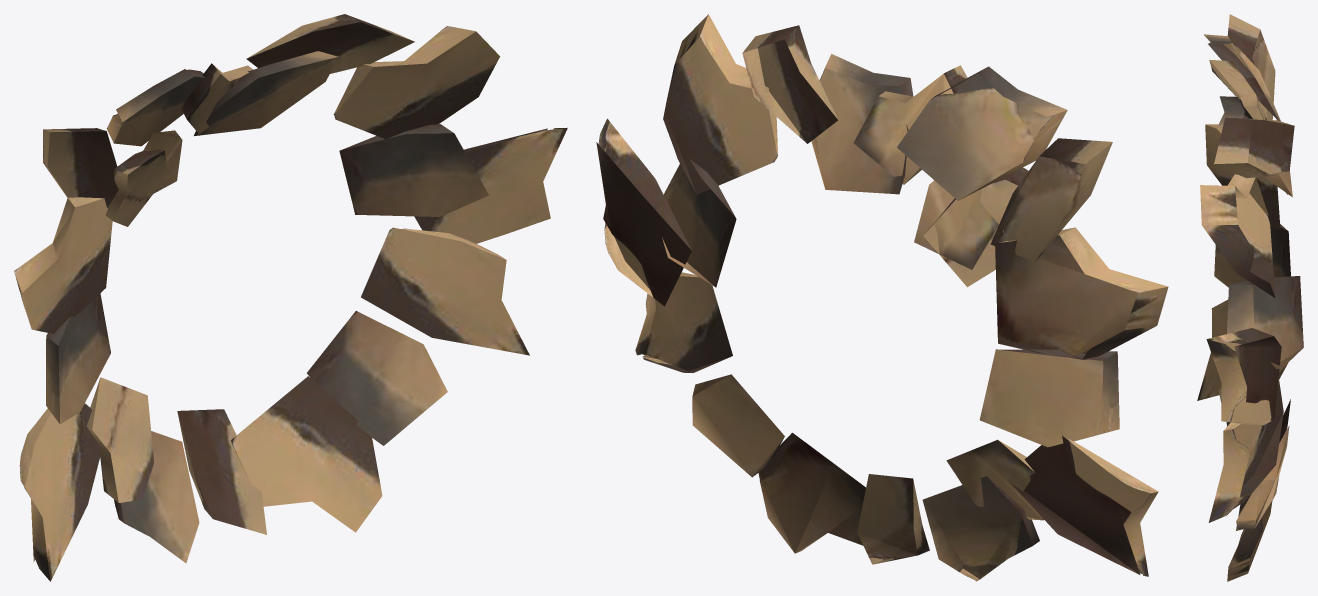
The model's file is eff_mesh_floor_creation_04.FBX.
3 views of the same model, side by side, from view 1: azimuth 30°, elevation 25°; view 2: azimuth 150°, elevation 25°; view 3: azimuth 270°, elevation 25° (orthographic). The views are drawn at different scales.
Parts seen in each view (by area): view 1: Floor2_Creation; view 2: Floor2_Creation; view 3: Floor2_Creation.
Boxes of the visible parts, x1=… form: Floor2_Creation: x1=14, y1=14, x2=567, y2=581; Floor2_Creation: x1=596, y1=14, x2=1168, y2=581; Floor2_Creation: x1=1197, y1=14, x2=1303, y2=581.
Size of the model in its own units: 1.53 by 1.36 by 0.2832.
Materials: 1 (1 with a texture image).
